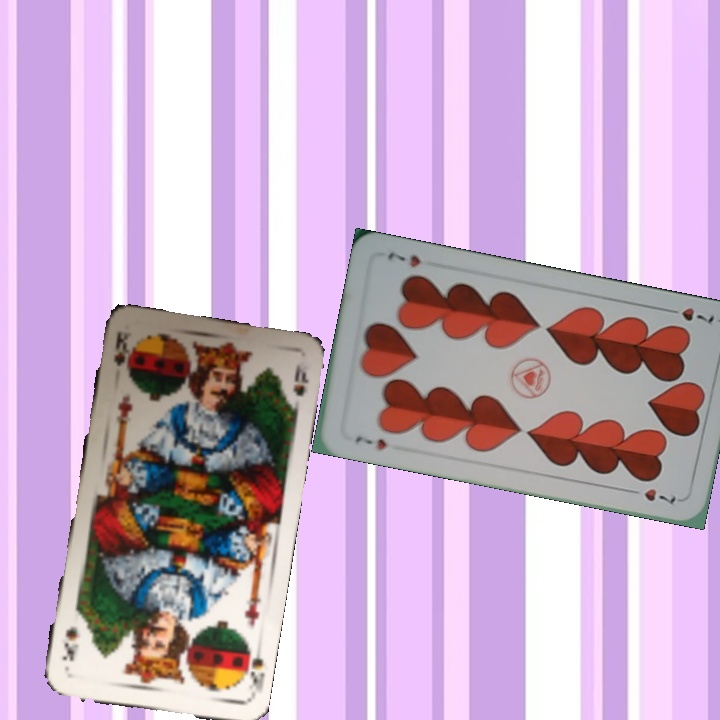H7: (660, 303, 717, 326), (351, 431, 389, 453)
SK: (236, 642, 266, 703), (109, 328, 131, 369)
